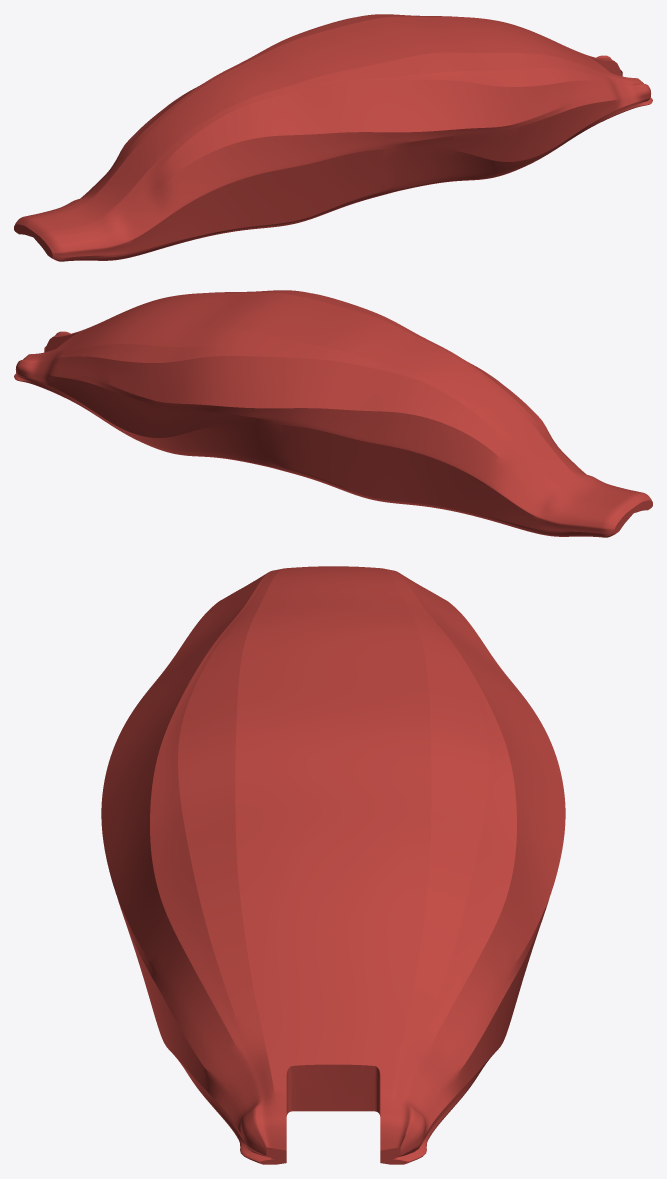
Rendered from sports_tourer_5.glb.
3 views of the same model, one above another, from view 1: azimuth 30°, elevation 25°; view 2: azimuth 150°, elevation 25°; view 3: azimuth 270°, elevation 25° (orthographic). The views are drawn at different scales.
Parts seen in each view (by area): view 1: sports_tourer_5; view 2: sports_tourer_5; view 3: sports_tourer_5.
Boxes of the visible parts, x1,y1,x2,y2 form: sports_tourer_5: (14,14,652,261); sports_tourer_5: (14,290,652,537); sports_tourer_5: (101,566,565,1164).
Bounding box in the file's own units: 1.29 × 0.2764 × 0.4299.
